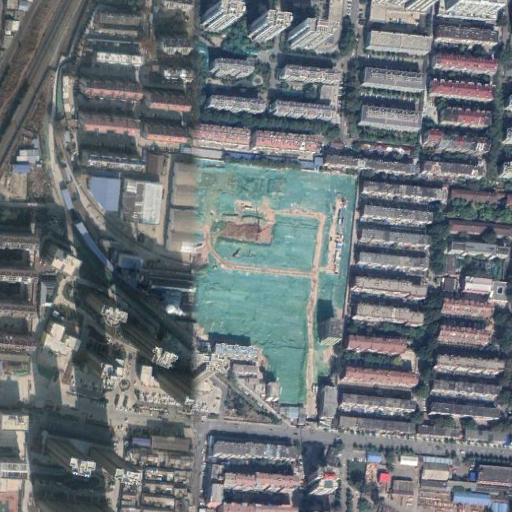cw: (189, 161, 357, 406)
